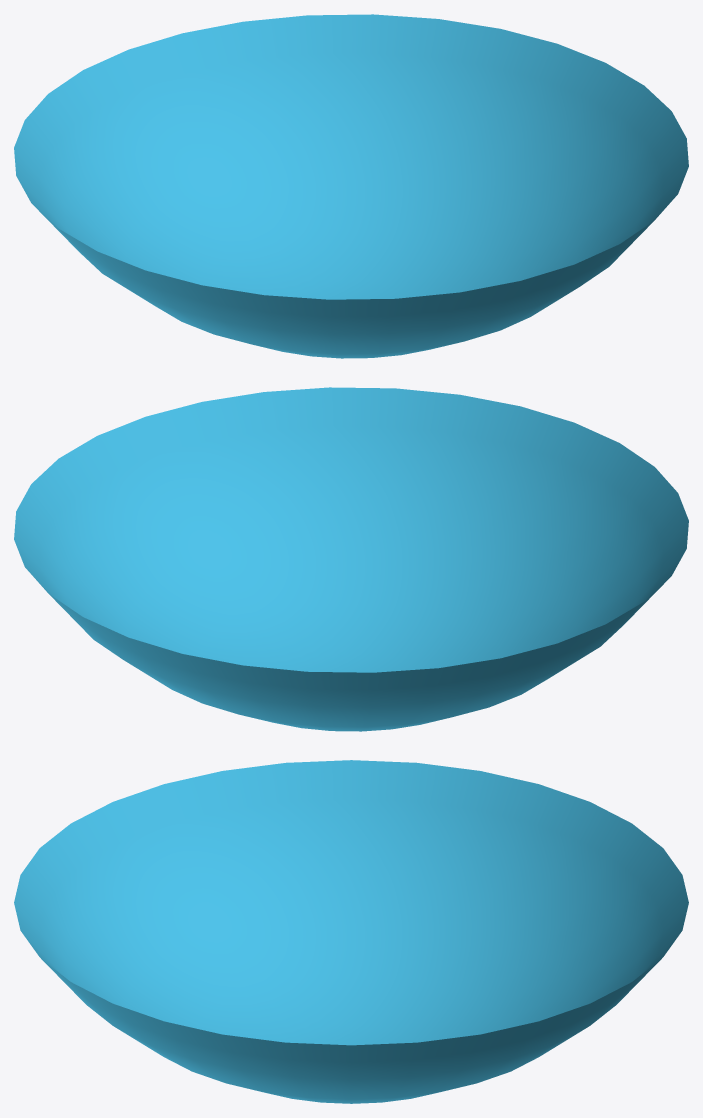
Rendered from bowl.glb.
3 views of the same model, one above another, from view 1: azimuth 30°, elevation 25°; view 2: azimuth 150°, elevation 25°; view 3: azimuth 270°, elevation 25° (orthographic).
Visible parts, largest first — view 1: Sphere; view 2: Sphere; view 3: Sphere.
Boxes of the visible parts, x1,y1,x2,y2 form: Sphere: (14, 14, 688, 358); Sphere: (14, 387, 688, 731); Sphere: (14, 760, 688, 1103).
Size of what is drawn, in the model's own units: 3.39 by 0.9071 by 3.39.
